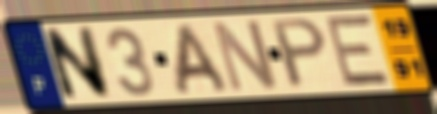3: (105, 25, 155, 98)
A: (173, 22, 233, 97)
E: (324, 12, 394, 89)
N: (39, 24, 114, 103), (209, 17, 282, 96)
P: (269, 15, 329, 92)
